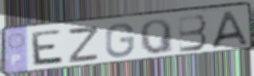A: (210, 9, 249, 50)
B: (176, 13, 209, 54)
E: (30, 28, 66, 68)
G: (105, 22, 137, 59)
Q: (138, 18, 176, 56)
Z: (67, 24, 101, 65)
